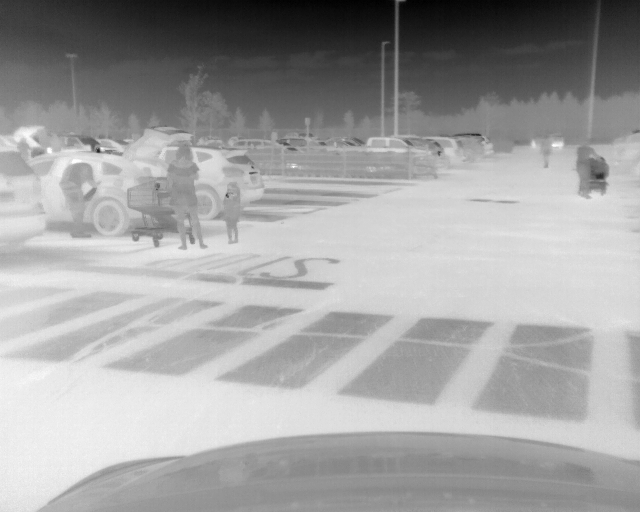car: (26, 150, 167, 234), (155, 146, 263, 221), (1, 136, 48, 251), (365, 136, 449, 175), (432, 135, 468, 168), (458, 131, 486, 164), (531, 133, 566, 149)
people: (168, 144, 205, 249), (58, 163, 98, 238), (574, 140, 599, 198), (223, 183, 242, 243), (540, 134, 553, 168)
